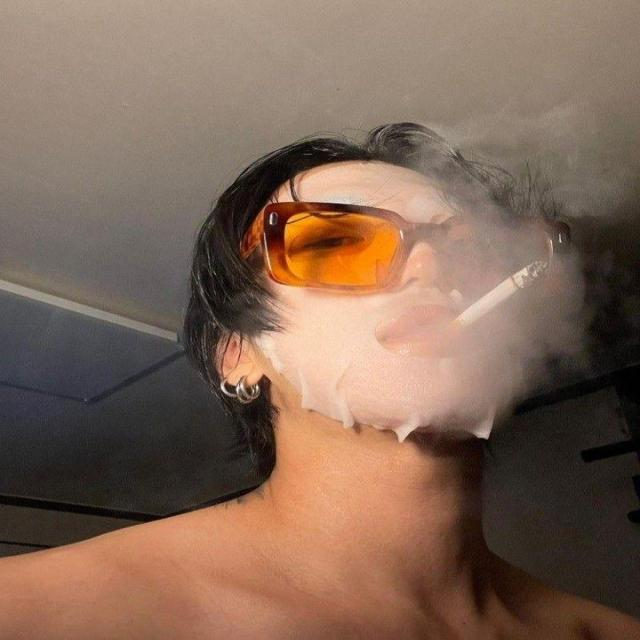cigarette: (446, 249, 543, 348)
